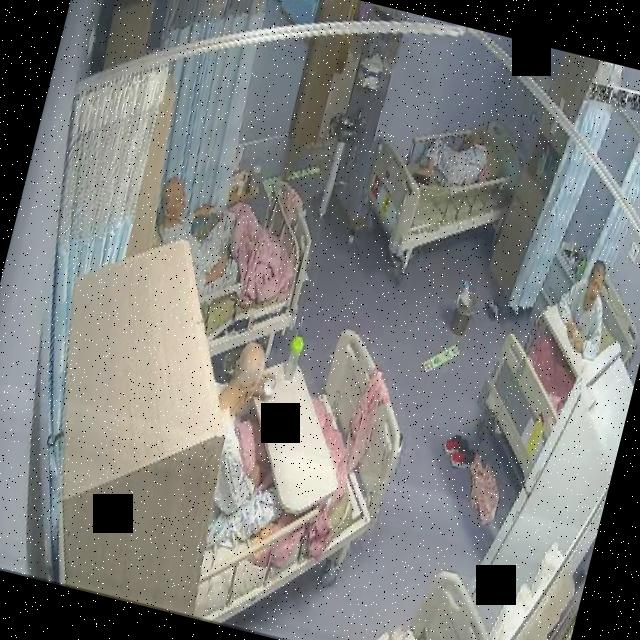bed: (157, 305, 422, 640), (462, 255, 640, 497), (151, 166, 323, 375), (354, 93, 530, 281)
lie: (410, 114, 502, 198)
patient: (180, 328, 322, 560), (138, 175, 246, 309), (548, 246, 622, 362), (411, 115, 502, 199)
sit: (178, 328, 323, 560), (139, 175, 288, 318), (548, 247, 622, 362)
